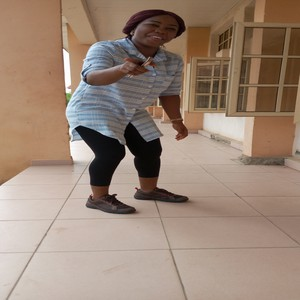Fulokoja_female_student: (69, 15, 190, 206)
